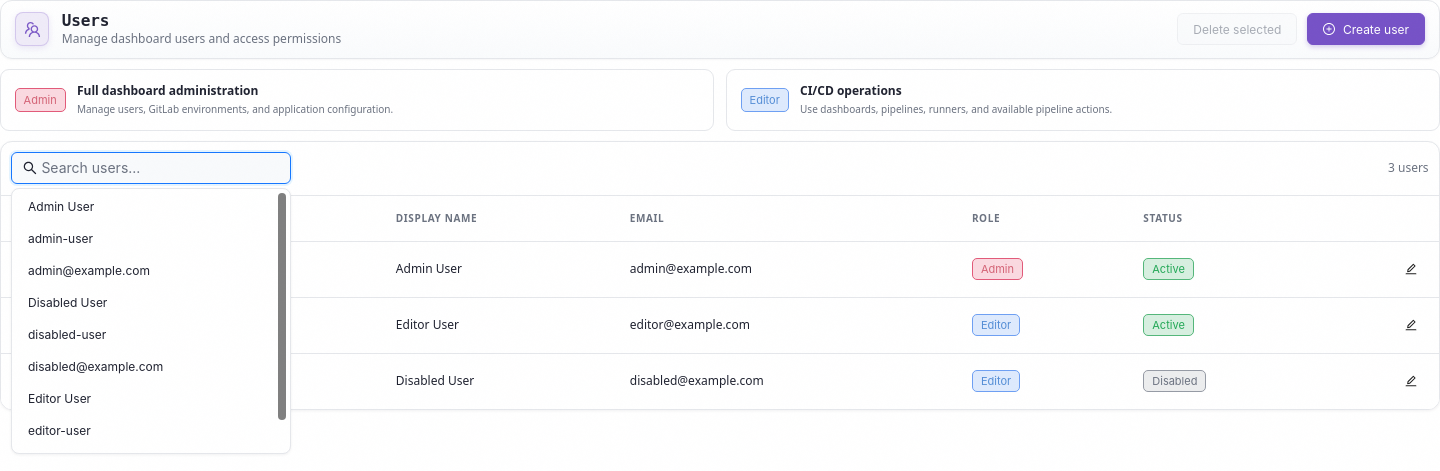
Scenario: UsersPage › search control › shows a themed no-matching-users state when nothing matches
This screenshot has width=1440, height=471.
Expected: the text "admin-user" next to "AU" is shown, top-left (127, 260), bottom-right (192, 277)
Step 1. Type "zzzzz" into the dropdown with placeholder "Search users..." → {"x": 152, "y": 168}, box top-left (41, 157), bottom-right (263, 179)
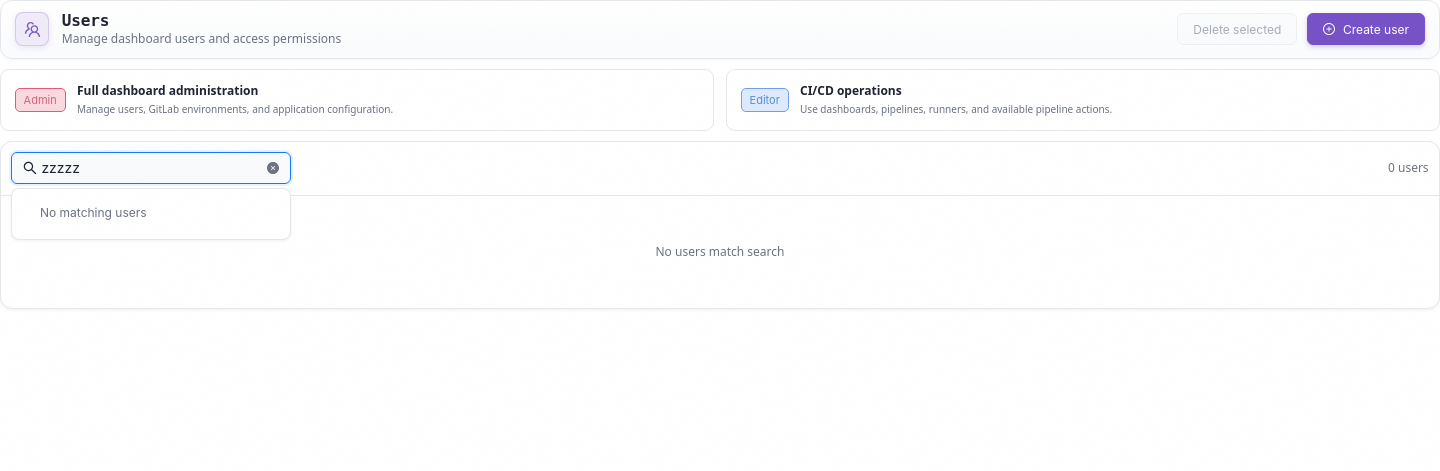
Expected: the text "zzz" is not shown
Now the text "No matching users" is shown, box top-left (40, 205), bottom-right (147, 220)
Now the text "No users match search" is shown, box top-left (656, 243), bottom-right (784, 260)
